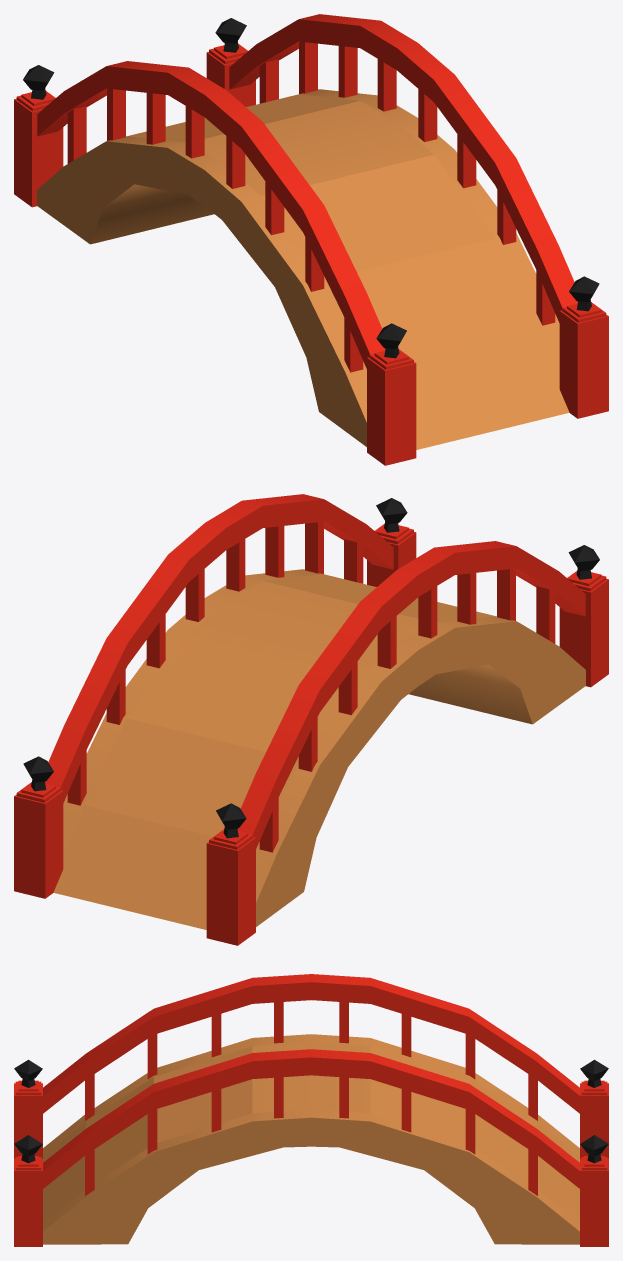
The model's file is Bridge.fbx.
The picture shows the model from 3 angles, top to bottom: view 1: azimuth 30°, elevation 25°; view 2: azimuth 150°, elevation 25°; view 3: azimuth 270°, elevation 25°; orthographic projection. The views are drawn at different scales.
Parts seen in each view (by area): view 1: Bridge__1, Bridge__2; view 2: Bridge__1, Bridge__2; view 3: Bridge__1, Bridge__2.
Boxes of the visible parts, box(x1,y1,x2,y2) form: Bridge__1: box(37, 89, 569, 449); Bridge__2: box(14, 14, 608, 465); Bridge__1: box(53, 569, 585, 929); Bridge__2: box(14, 494, 608, 945); Bridge__1: box(43, 1034, 579, 1244); Bridge__2: box(14, 974, 608, 1246).
Size of the model in its own units: 200 by 200 by 575.
